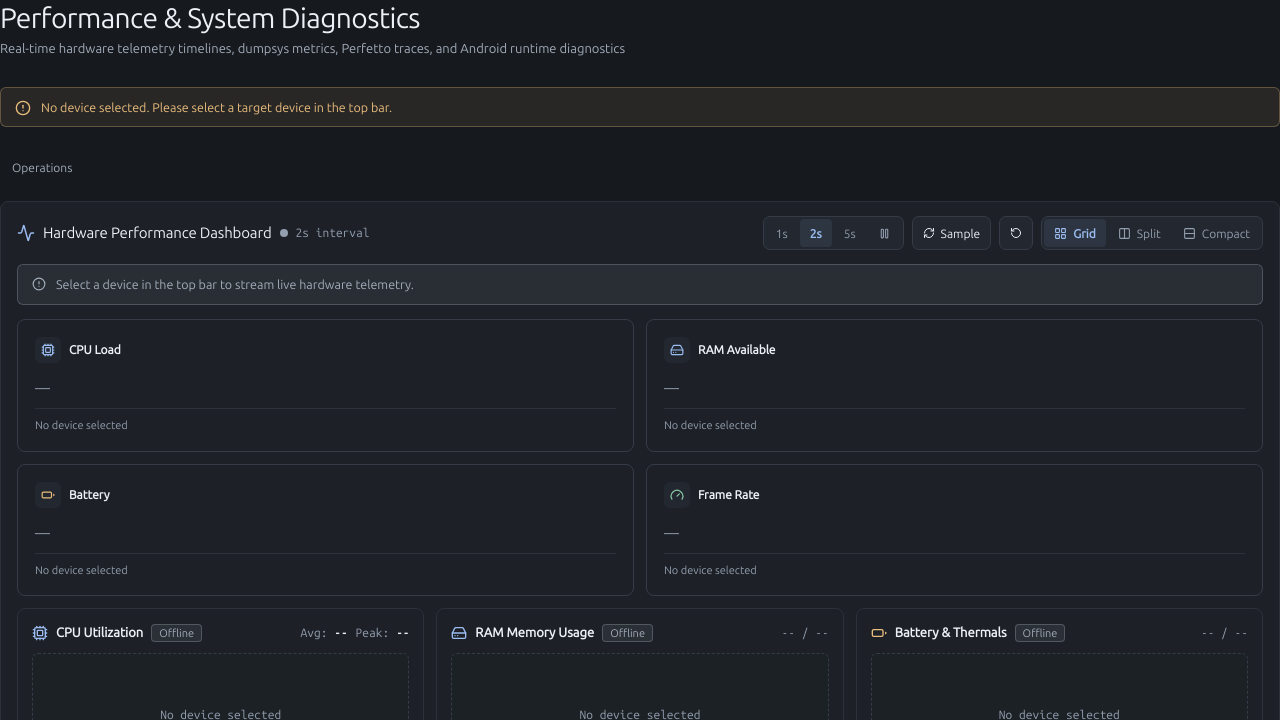
Test: Performance Dashboard, Multi-Graph Telemetry & Theme Selection › renders subsystem-specific KPIs in Diagnostics split mode for selected hero tab
This screenshot has width=1280, height=720.
// Switch to Split mode
Click the button with test id "layout-split-btn": point(1139, 233) [1108, 219, 1171, 247]
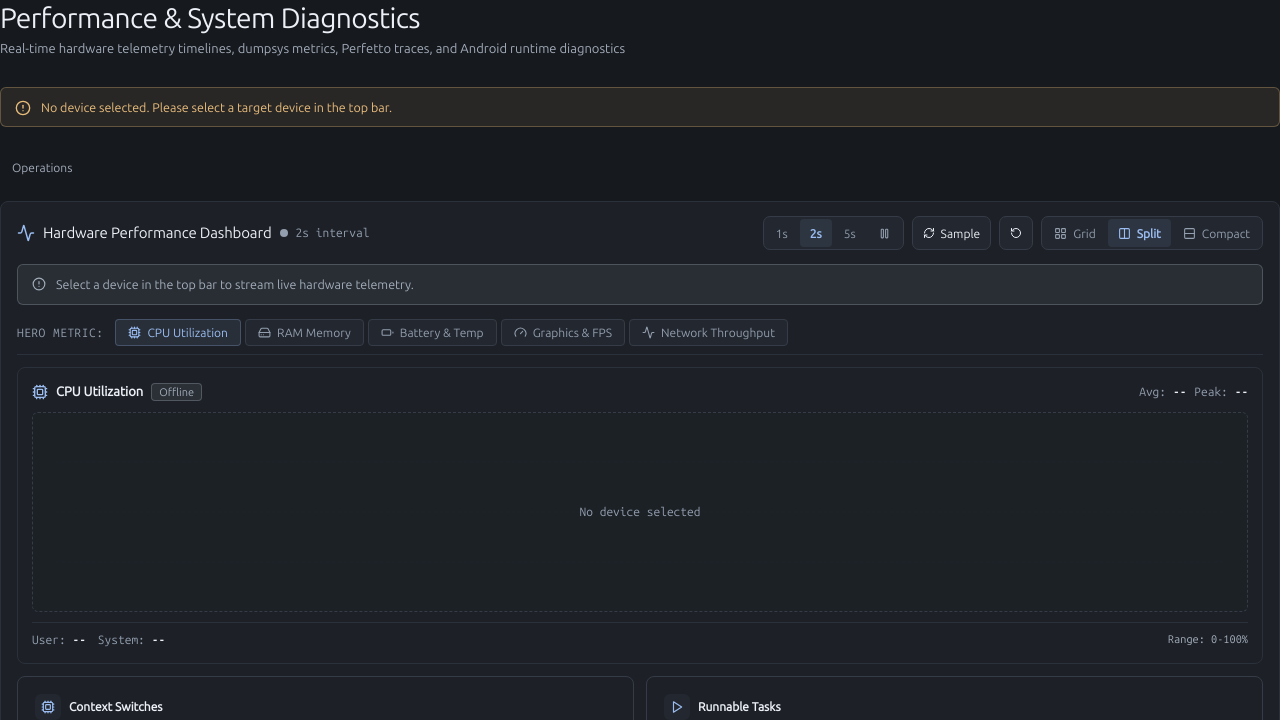
expect the text "Context Switches" is shown: met, box [69, 698, 162, 716]
expect the text "Runnable Tasks" is shown: met, box [698, 698, 781, 716]
// Switch Hero to Battery: verify Battery subsystem KPIs
Click the button with test id "hero-tab-battery": point(432, 333) [368, 319, 497, 346]
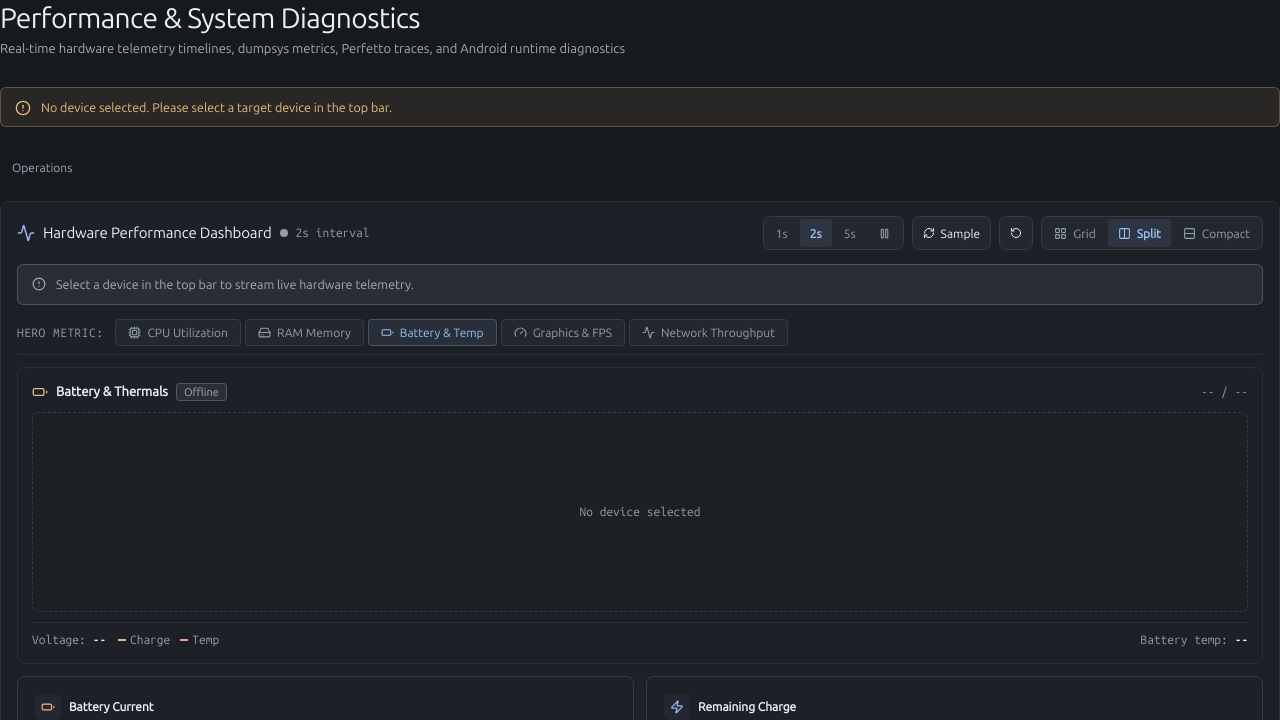
expect the text "Battery Current" is shown: met, box [69, 698, 154, 716]
expect the text "Remaining Charge" is shown: met, box [698, 698, 796, 716]
// Switch Hero to Graphics & FPS: verify Graphics subsystem KPIs
Click the button with test id "hero-tab-fps": point(563, 333) [501, 319, 625, 346]
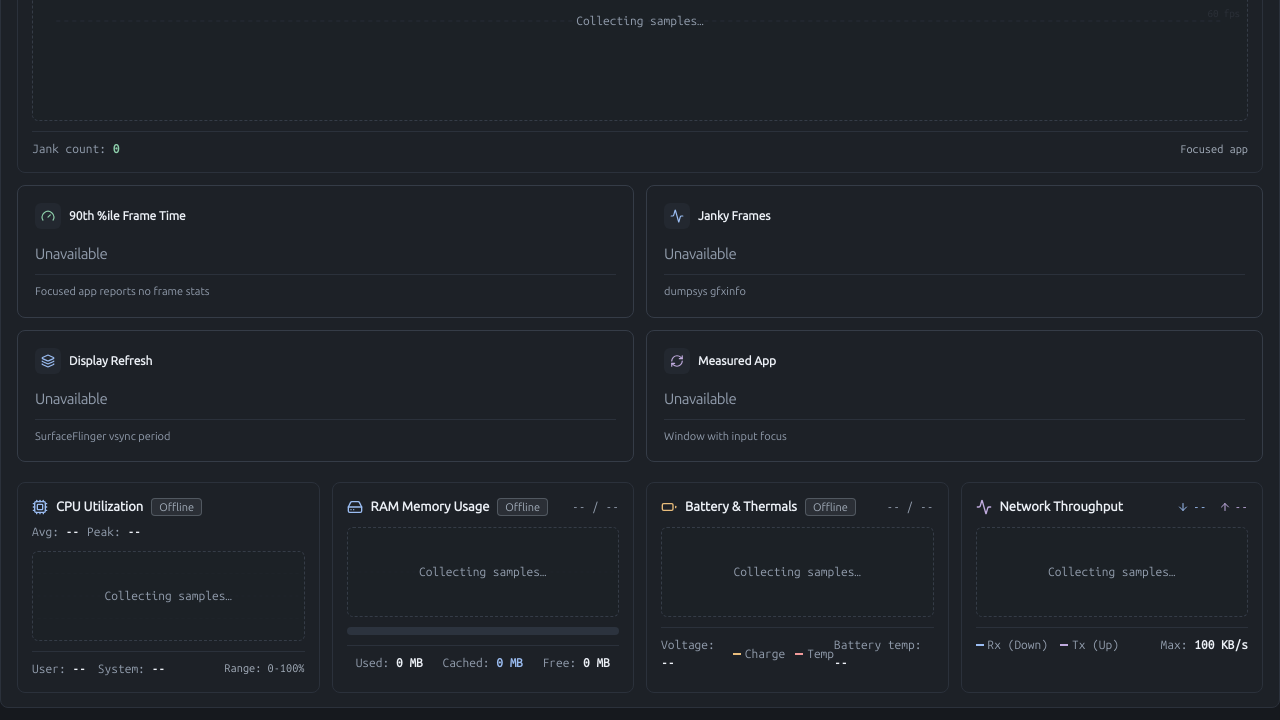
expect the text "90th %ile Frame Time" is shown: met, box [69, 207, 186, 225]
expect the text "Janky Frames" is shown: met, box [698, 207, 770, 225]
expect the text "Display Refresh" is shown: met, box [69, 352, 152, 370]
